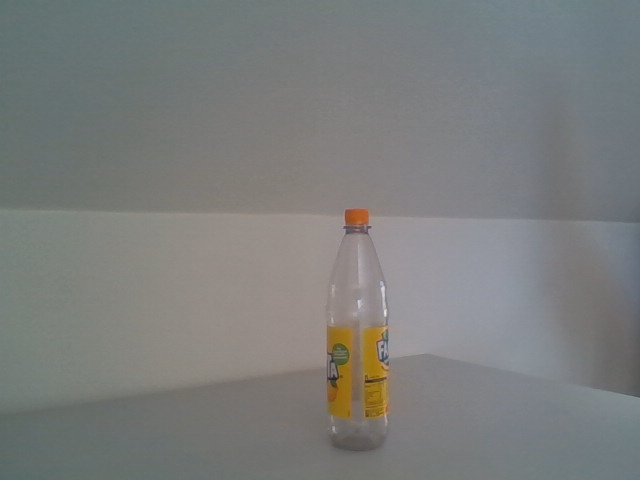bottle: (325, 209, 390, 453)
